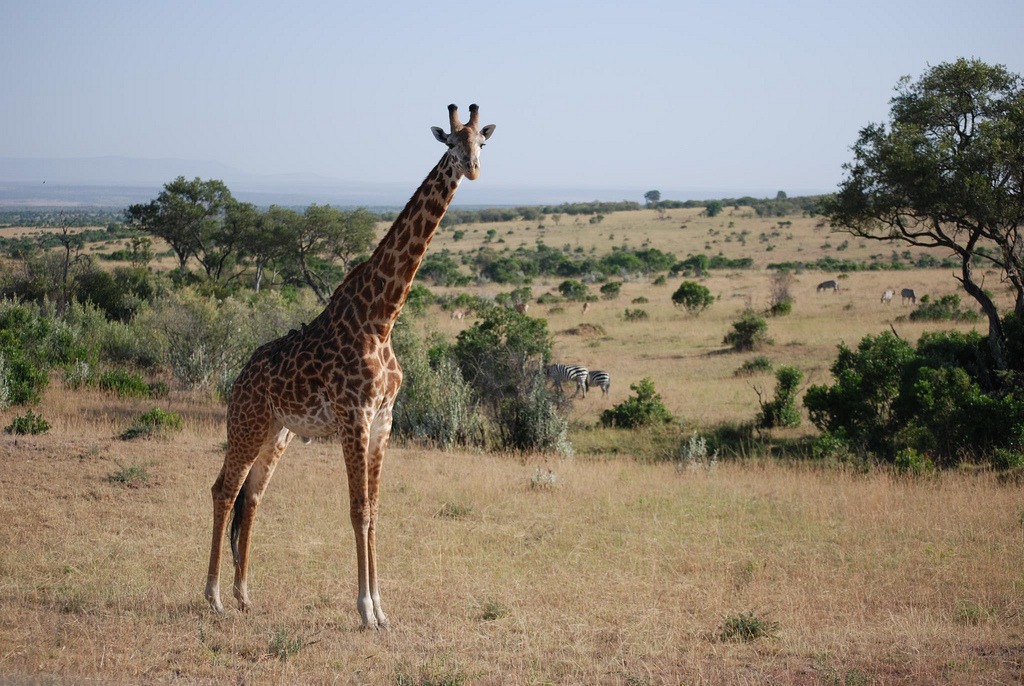giraffe: (166, 85, 520, 652)
